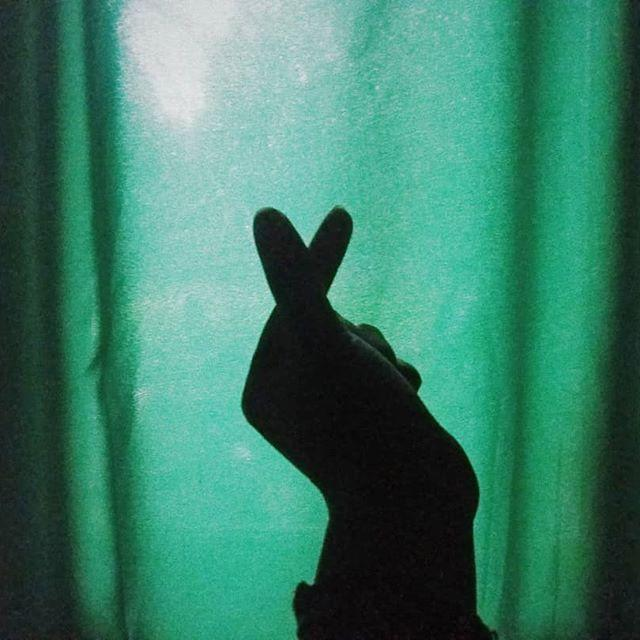heart gesture: (250, 203, 357, 304)
